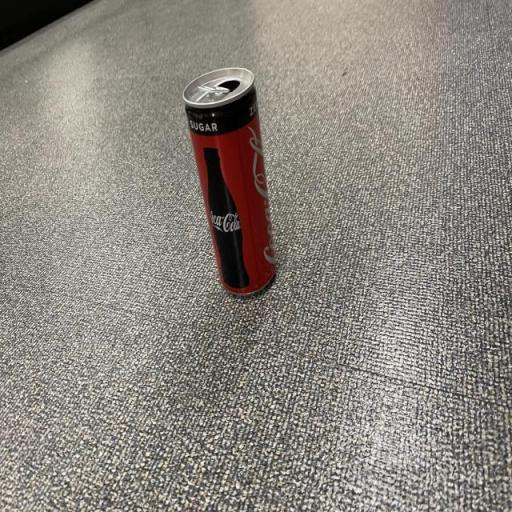metal: (171, 44, 294, 317)
